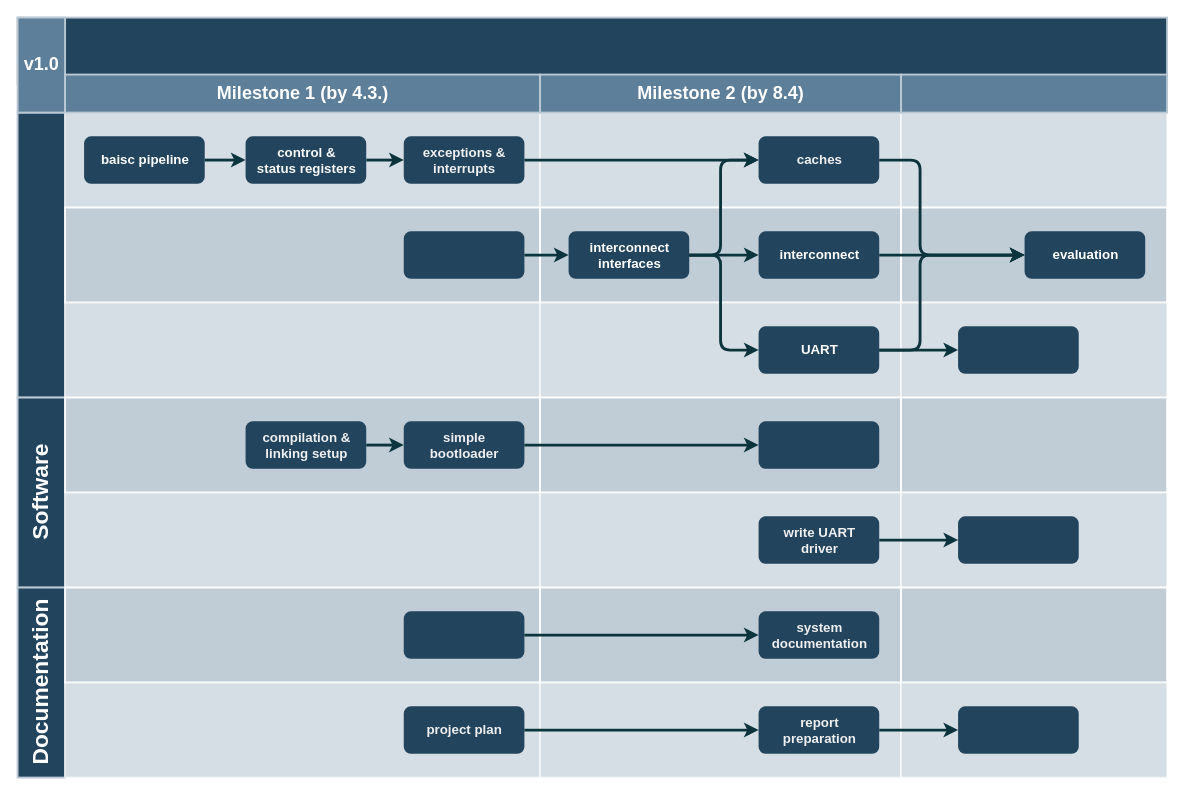
This 1184x794 diagram has some shape labels left out. The box of each missing label's shape, as (x1, y1, x2, y2) in pixels:
bootloader for system: (758, 421, 879, 468)
core documentation: (403, 611, 524, 658)
Developing a RISC-V Embedded System: (16, 16, 1168, 85)
Hardware: (16, 111, 66, 398)
interconnect protocol & type: (403, 231, 524, 278)
Milestone 3 (by 6.5): (900, 73, 1168, 113)
other peripherals: (958, 326, 1078, 373)
report writing: (958, 706, 1078, 753)
write remaining HAL: (958, 516, 1078, 563)
